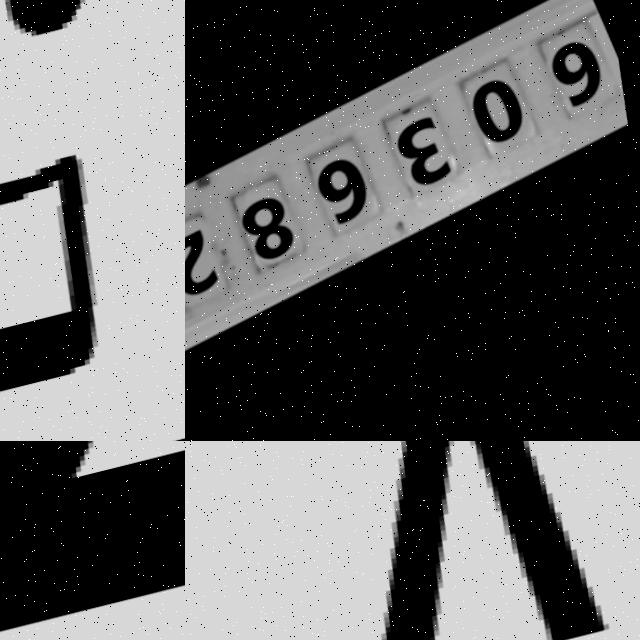0: (455, 57, 557, 167)
2: (185, 210, 253, 320)
3: (383, 97, 484, 209)
5: (0, 0, 185, 441)
6: (304, 137, 403, 244), (536, 20, 634, 127)
8: (230, 175, 330, 284)
Y: (263, 441, 640, 640)
Z: (0, 441, 185, 640)
